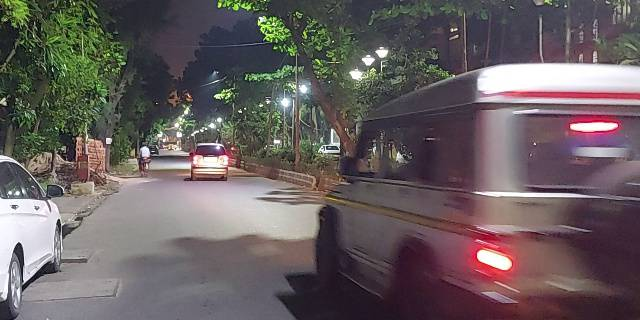Car: (316, 63, 631, 316), (188, 143, 229, 180)
